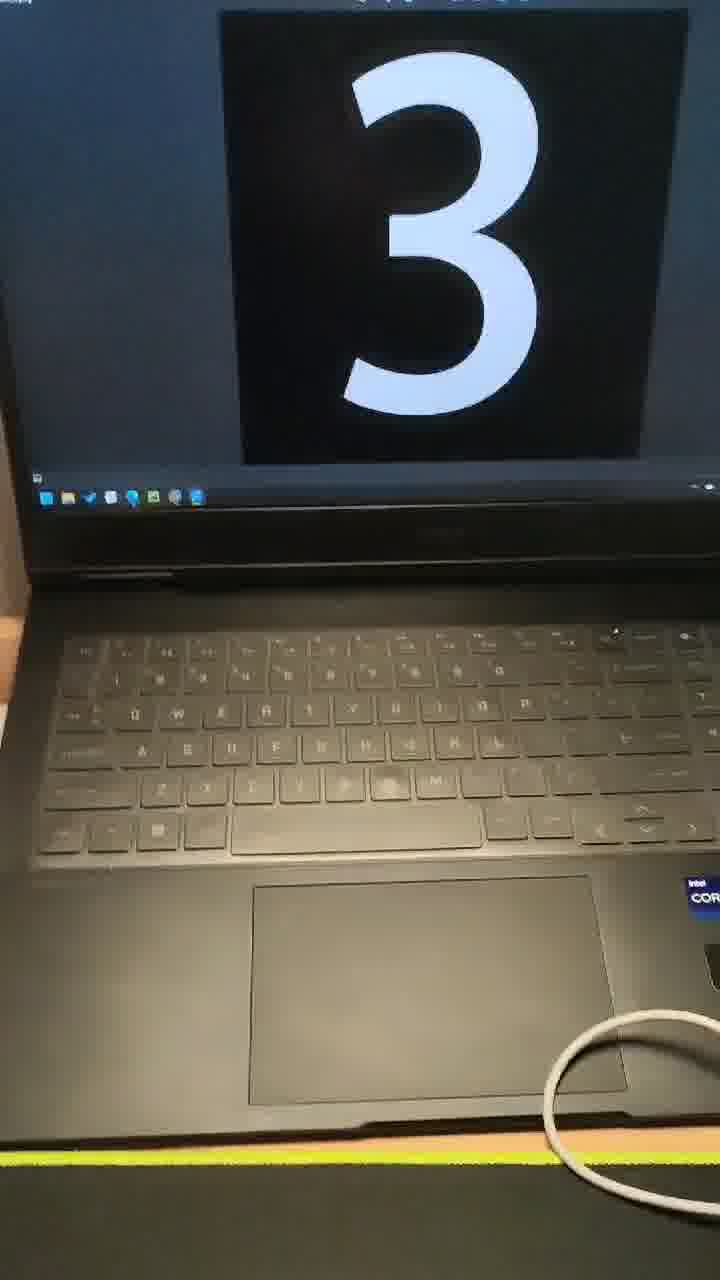three: (333, 60, 636, 471)
